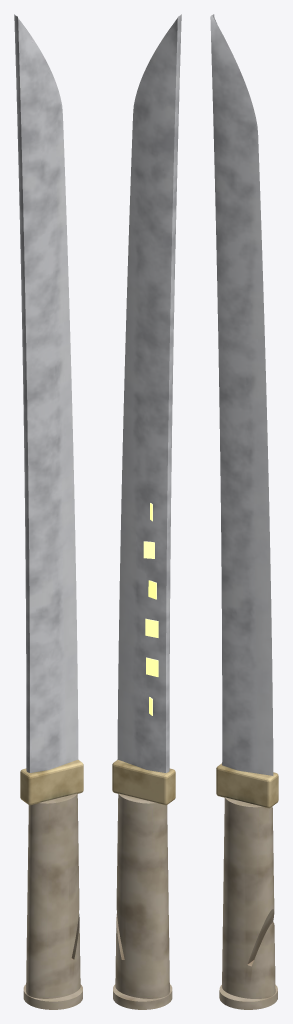
3 views of the same model, side by side, from view 1: azimuth 30°, elevation 25°; view 2: azimuth 150°, elevation 25°; view 3: azimuth 330°, elevation 25° (orthographic).
Parts seen in each view (by area): view 1: metal_hamon, wood_pale, metal_brass; view 2: metal_hamon, wood_pale, metal_brass, glow_edge; view 3: metal_hamon, wood_pale, metal_brass.
Part boxes in pixels (<box>): metal_hamon: <box>14,14,78,772</box>; wood_pale: <box>23,793,82,1009</box>; metal_brass: <box>20,760,83,805</box>; metal_hamon: <box>117,14,181,772</box>; wood_pale: <box>113,793,172,1009</box>; metal_brass: <box>112,760,175,805</box>; glow_edge: <box>143,503,158,715</box>; metal_hamon: <box>210,14,273,775</box>; wood_pale: <box>219,797,277,1009</box>; metal_brass: <box>216,763,278,808</box>.
Bounding box in the file's own units: 0.0486 × 0.714 × 0.039.
4 materials, 3 textured.
